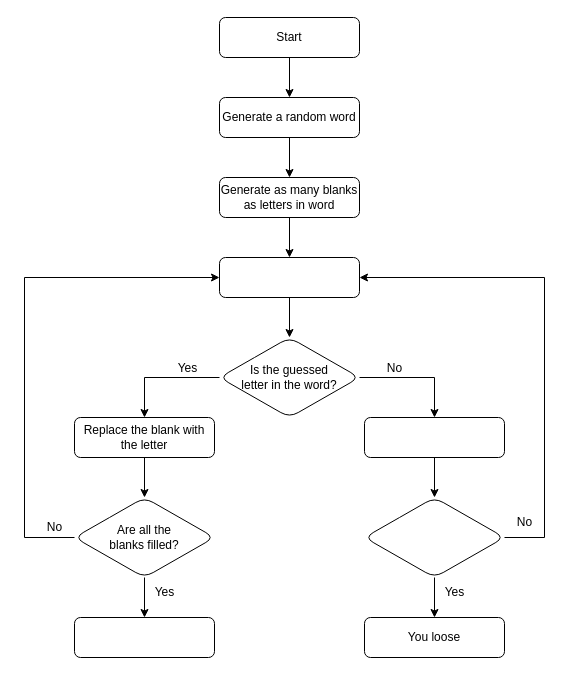
Image size: 570x675. Some labels were removed from this diagram. The shapes that lost their labels are listed below. From the top down, each one's centre as x and y in pixels, then its label:
At pixel 289 277: "Ask the user to guess a letter".
At pixel 434 437: "Lose a life".
At pixel 434 537: "Have they run out of lives?".
At pixel 144 637: "You win".
